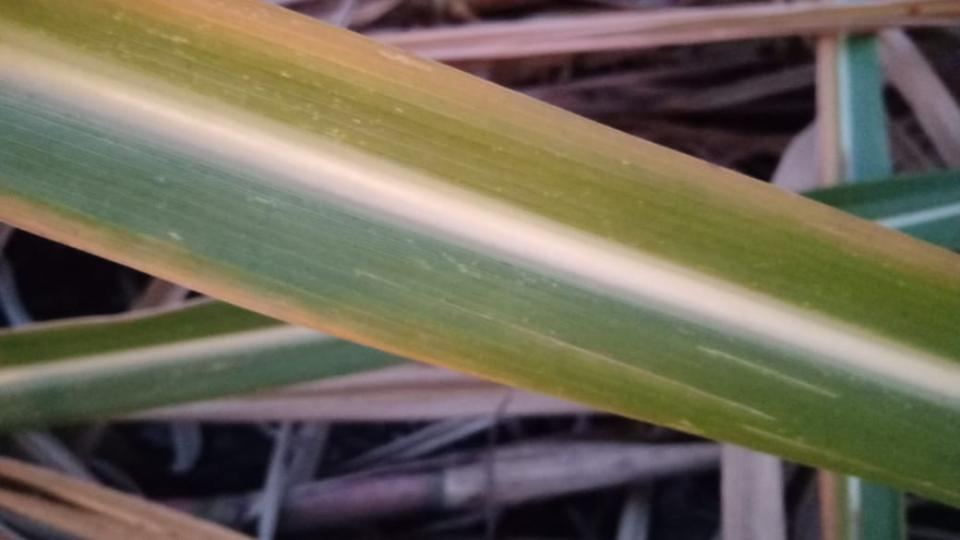Yellow: (149, 0, 959, 274), (0, 207, 472, 373)
